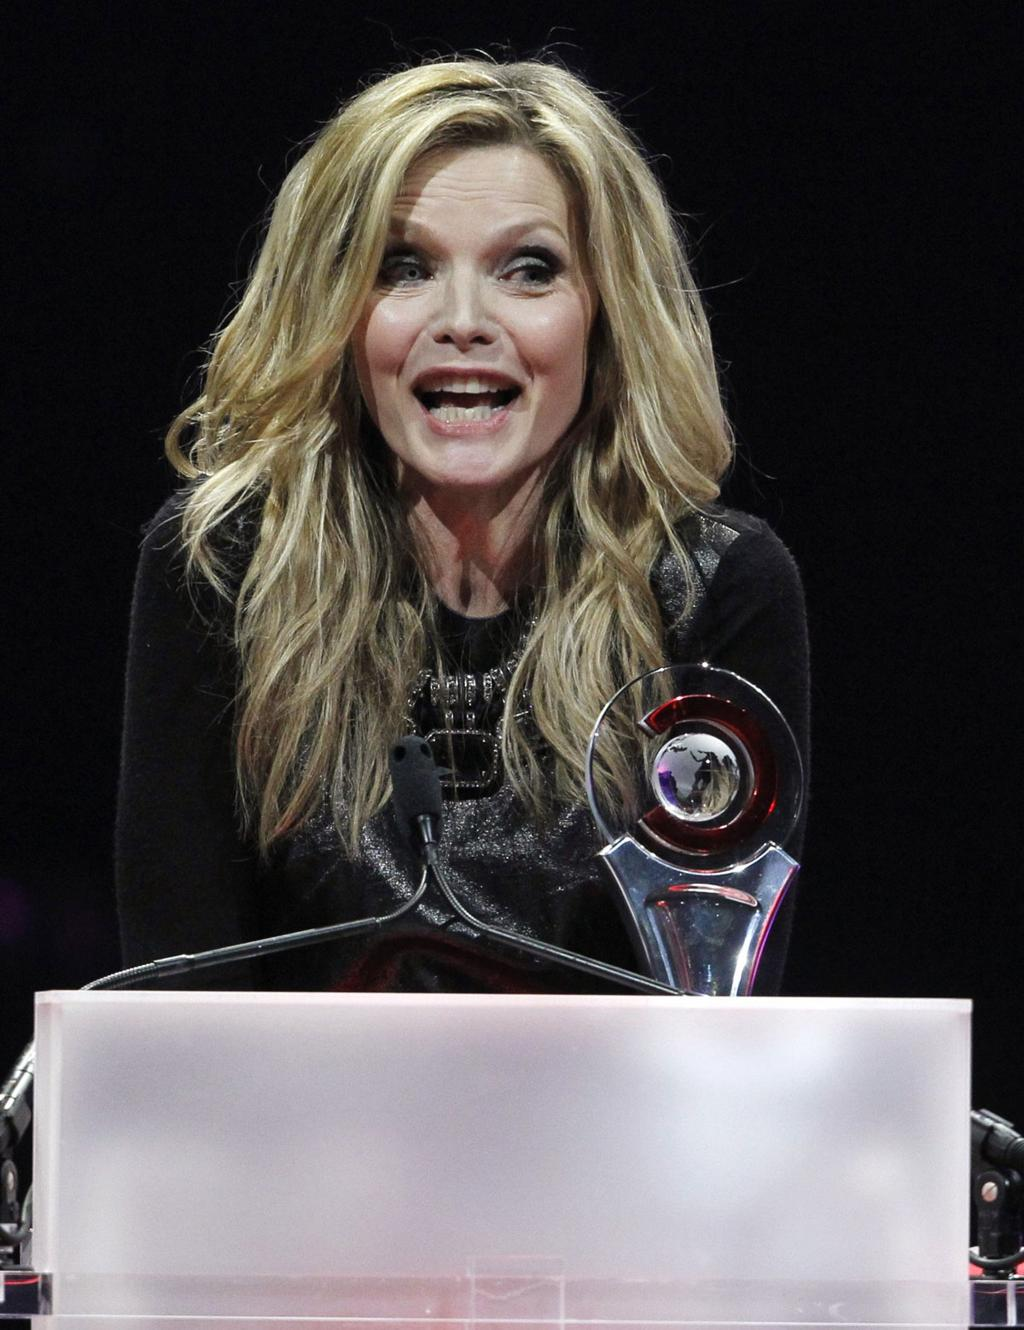face: (351, 130, 590, 489)
